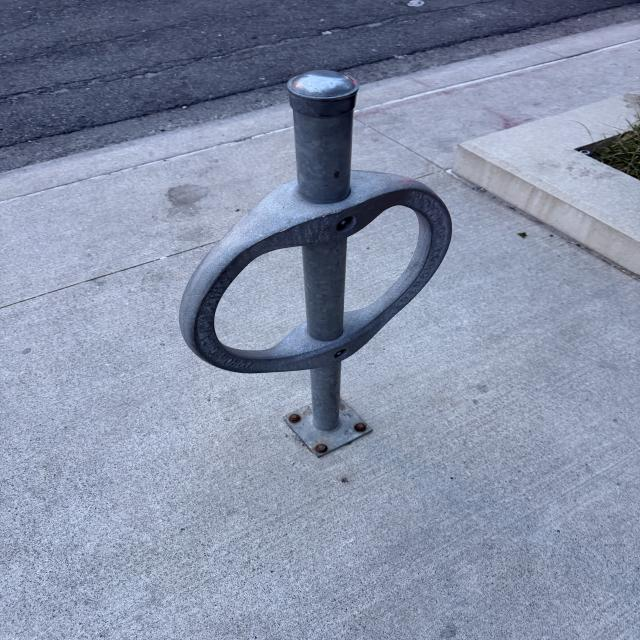Bicycle Rack: (179, 70, 457, 453)
